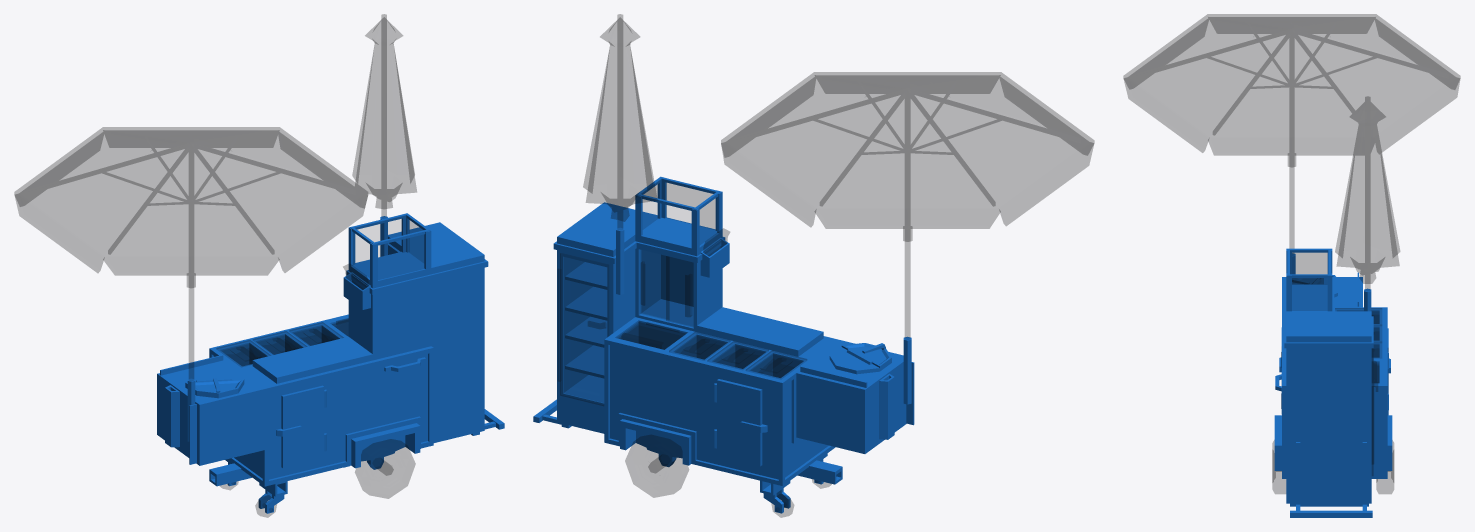
Rendered from SM_cart.fbx.
3 renders of one model, left to right at view 1: azimuth 30°, elevation 25°; view 2: azimuth 150°, elevation 25°; view 3: azimuth 270°, elevation 25°, orthographic. The views are drawn at different scales.
Parts seen in each view (by area): view 1: cart, Cube_3, Cube_2, Cylinder_4, Cube_5, Cube_6, Cube_2_2; view 2: cart, Cube_3, Cube_2, Cylinder_6, Cylinder_4, Cylinder_3, Cylinder_5, Cylinder_2, Cube_2_2, Cube_5, Cube_6; view 3: Cube_3, cart, Cube_2, Cylinder_4, Cylinder_6.
Boxes of the visible parts, <box> form: cart: <box>157,213,504,513</box>; Cube_3: <box>14,127,367,380</box>; Cube_2: <box>352,14,416,218</box>; Cylinder_4: <box>355,439,415,498</box>; Cube_5: <box>216,340,270,366</box>; Cube_6: <box>289,322,343,345</box>; Cube_2_2: <box>253,331,306,354</box>; cart: <box>533,176,914,513</box>; Cube_3: <box>721,72,1094,339</box>; Cube_2: <box>583,14,657,229</box>; Cylinder_6: <box>558,253,608,405</box>; Cylinder_4: <box>625,435,688,497</box>; Cylinder_3: <box>666,256,693,326</box>; Cylinder_5: <box>641,250,668,319</box>; Cylinder_2: <box>618,322,685,349</box>; Cube_2_2: <box>707,341,768,369</box>; Cube_5: <box>746,350,806,378</box>; Cube_6: <box>669,332,730,359</box>; Cube_3: <box>1123,14,1460,253</box>; cart: <box>1274,248,1392,517</box>; Cube_2: <box>1335,96,1399,290</box>; Cylinder_4: <box>1272,440,1394,493</box>; Cylinder_6: <box>1371,348,1377,475</box>.
Size of the model in its own units: 314 by 295 by 216.
